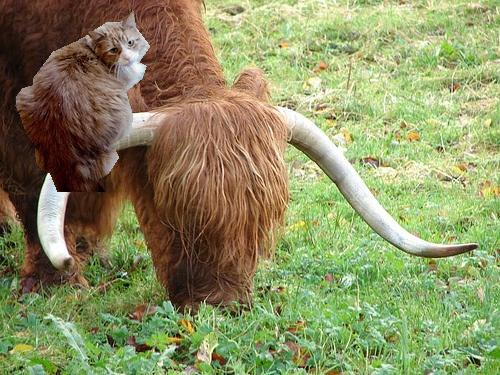tampered: (16, 12, 150, 192)
